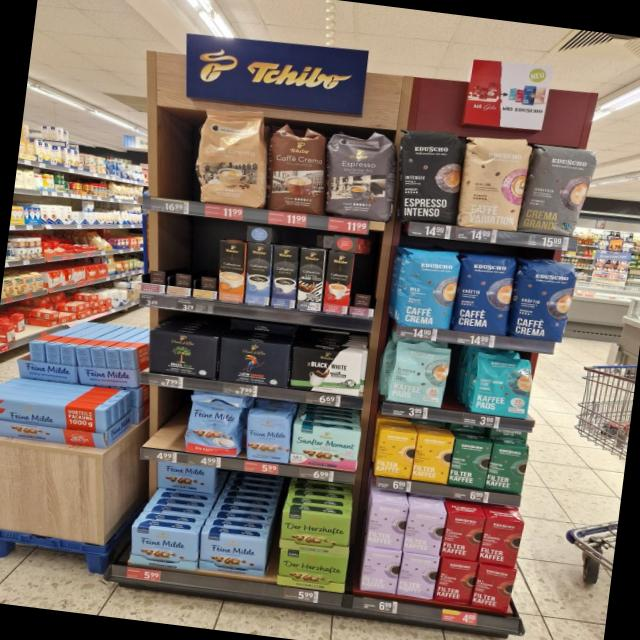BM Gemahlen: (143, 328, 220, 381)
BW Gemahlen: (287, 344, 363, 397)
CC Mild: (188, 104, 273, 210)
CC Vollmundig 36 Pads: (262, 120, 332, 216)
Empty Shelf: (140, 227, 172, 285), (168, 231, 198, 288), (193, 234, 222, 290)
Espresso M Art: (320, 125, 400, 222)
FM 36 Pads: (182, 397, 244, 458)
FM Bohne: (242, 412, 294, 464)
FM Gemahlen: (126, 524, 200, 571), (197, 530, 269, 577)
Herzhatfe Mundig: (278, 506, 353, 556), (276, 548, 348, 593)
LG Gemahlen: (215, 335, 292, 389)
SM Gemahlen: (288, 422, 362, 472)
Simo CCVollmundig bigpack: (219, 239, 244, 302)
Simo Es Brazil: (321, 250, 354, 314)
Simo Es Elegant: (296, 246, 324, 310)
Simo Es Kraft: (271, 245, 298, 308)
Simo Es Vanilla: (244, 241, 271, 305)
